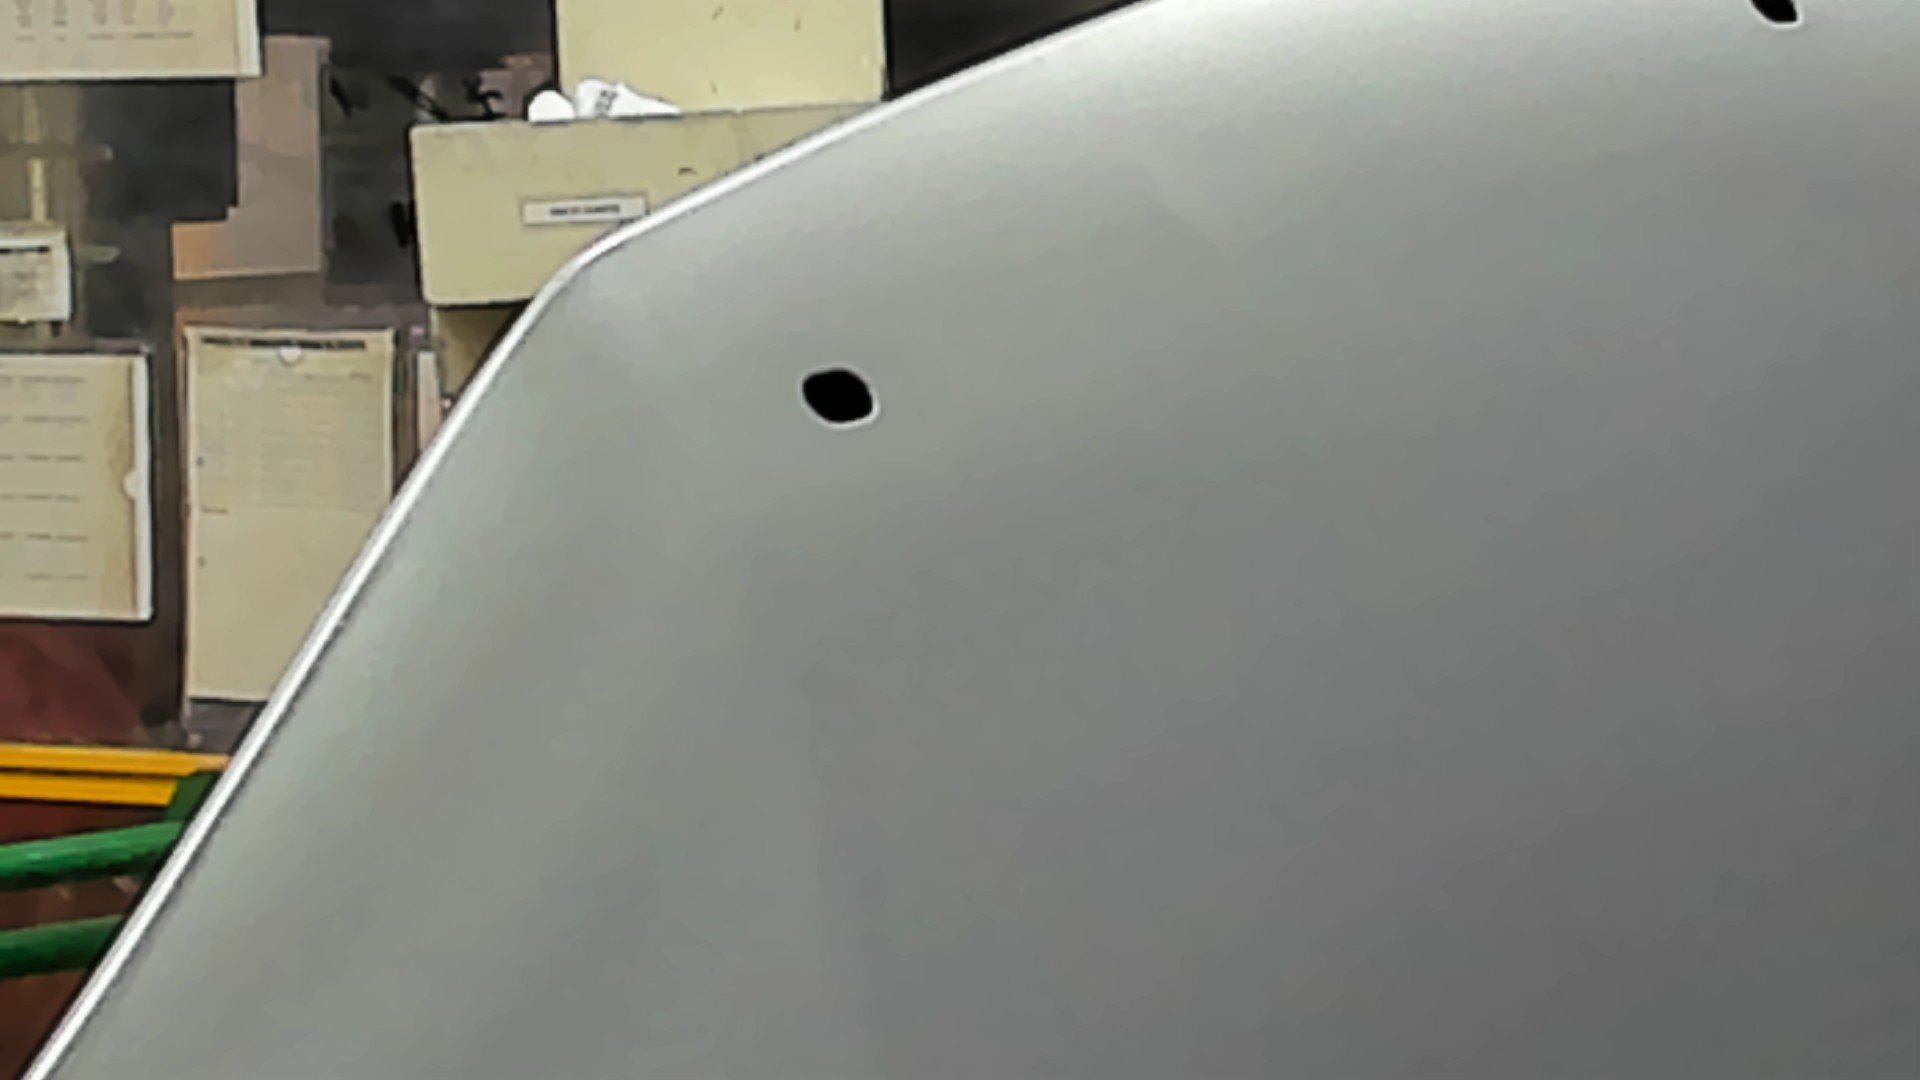amorfo: (791, 360, 880, 431), (1738, 1, 1811, 36)
capo: (986, 111, 1920, 1080)
